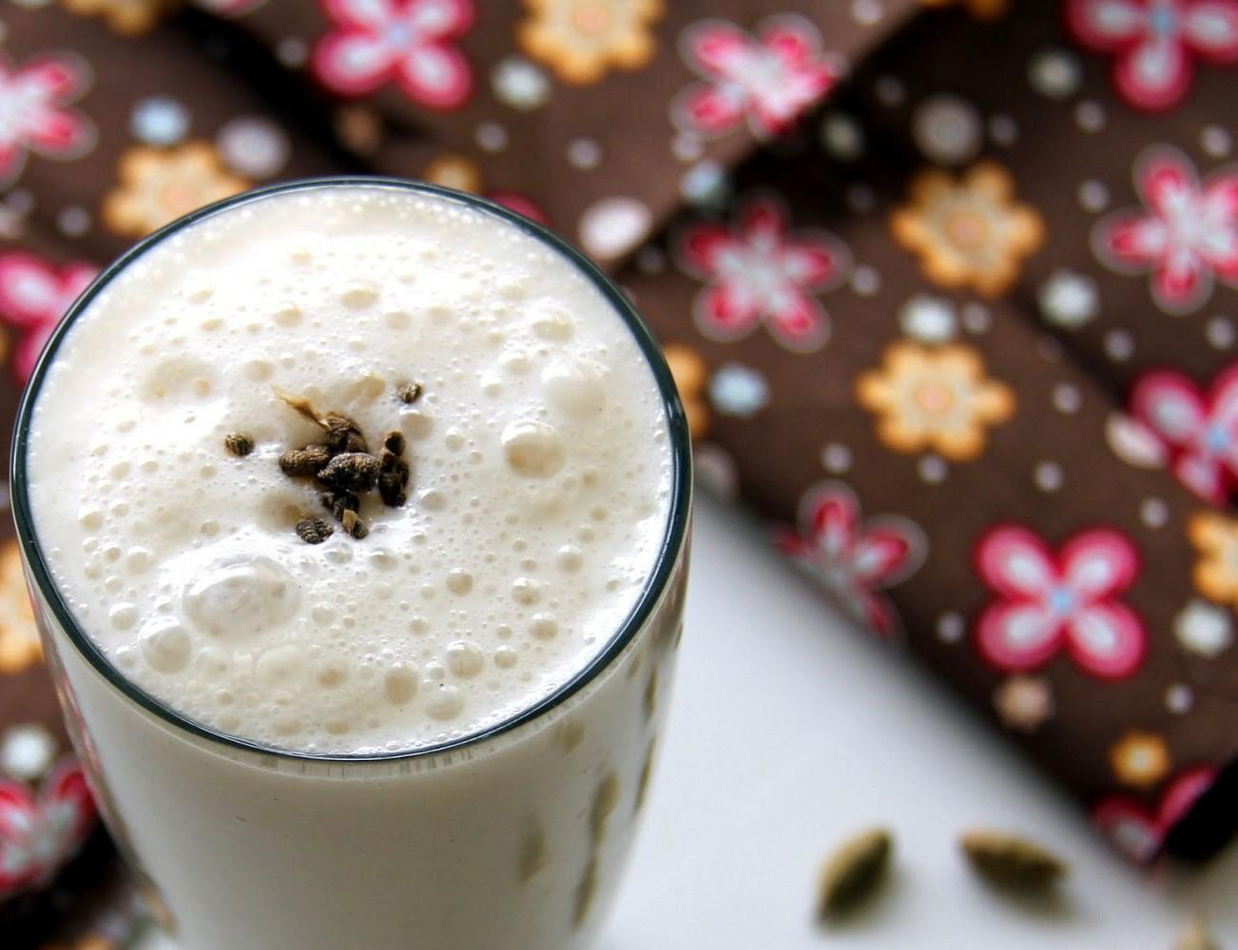Lassi: (29, 186, 671, 950)
